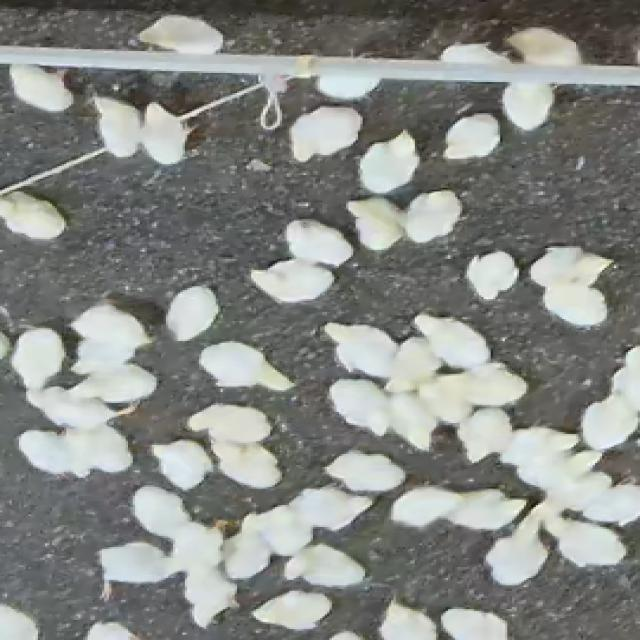broiler: (486, 511, 548, 583), (199, 341, 292, 388), (543, 514, 623, 565), (415, 314, 488, 368), (289, 106, 360, 160), (325, 323, 396, 377), (358, 131, 417, 193), (287, 485, 370, 529), (441, 363, 526, 405), (26, 387, 114, 427), (533, 472, 609, 518), (249, 259, 332, 301), (242, 505, 311, 554), (284, 543, 363, 585), (211, 439, 280, 487), (9, 328, 64, 388), (329, 379, 389, 434), (517, 450, 600, 489), (500, 427, 576, 469), (71, 363, 154, 401), (284, 219, 351, 266), (0, 190, 64, 239), (581, 394, 638, 449), (531, 246, 609, 286), (325, 450, 403, 490), (190, 403, 268, 443), (71, 305, 147, 346), (140, 102, 190, 164), (100, 542, 175, 583), (446, 490, 524, 529), (140, 15, 220, 53), (346, 197, 403, 250), (133, 485, 190, 538), (66, 425, 130, 472), (185, 565, 235, 625), (251, 591, 329, 629), (152, 439, 211, 489), (9, 64, 71, 111), (403, 190, 460, 241), (92, 97, 140, 157), (19, 430, 83, 474), (457, 408, 510, 461), (391, 487, 460, 527), (166, 286, 218, 339), (171, 520, 235, 563), (505, 27, 578, 64), (389, 392, 436, 449), (417, 376, 472, 423), (389, 337, 436, 390), (545, 283, 604, 325), (465, 252, 517, 299), (446, 113, 498, 159), (503, 82, 552, 129), (581, 483, 638, 523), (71, 339, 133, 374), (379, 600, 436, 638), (223, 532, 270, 578), (441, 607, 505, 638), (612, 346, 638, 412), (315, 73, 379, 98), (439, 44, 507, 62)
pipe: (0, 46, 638, 84)
